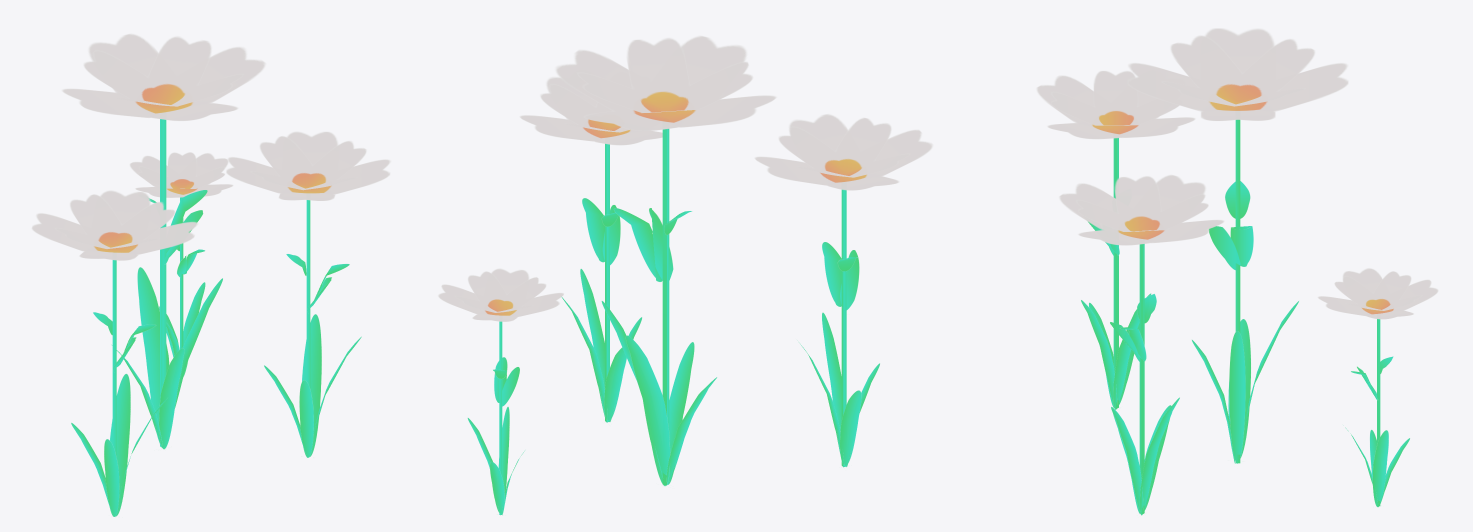
The model's file is Flower_n_02.glb.
The picture shows the model from 3 angles, left to right: view 1: azimuth 30°, elevation 25°; view 2: azimuth 150°, elevation 25°; view 3: azimuth 270°, elevation 25°; orthographic projection. The views are drawn at different scales.
Parts seen in each view (by area): view 1: polySurface210; view 2: polySurface210; view 3: polySurface210.
Boxes of the visible parts, box(x1,y1,x2,y2) form: polySurface210: box(31, 33, 391, 516); polySurface210: box(438, 35, 933, 515); polySurface210: box(1036, 28, 1438, 515).
Bounding box in the file's own units: 0.7092 × 0.6302 × 0.6689.
Materials: 1 (1 with a texture image).
